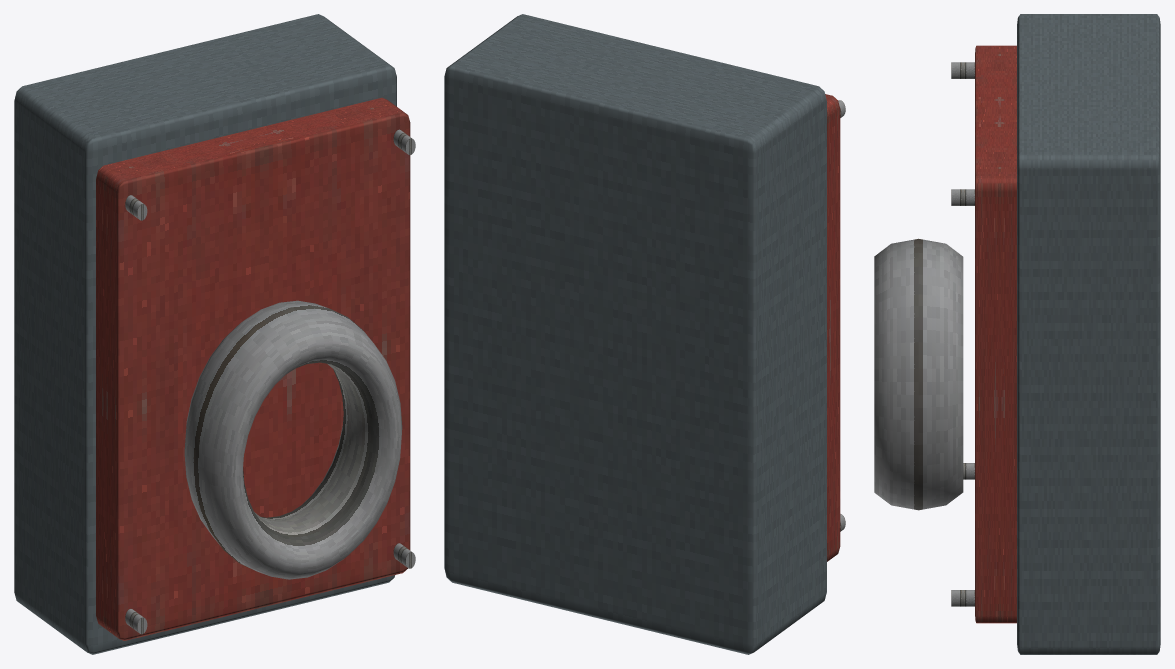
File: chain-seat.glb
3 views of the same model, side by side, from view 1: azimuth 30°, elevation 25°; view 2: azimuth 150°, elevation 25°; view 3: azimuth 270°, elevation 25° (orthographic). The views are drawn at different scales.
Parts seen in each view (by area): view 1: face, back, guide; view 2: back, face; view 3: back, face, guide.
Part boxes in pixels (x1,y1,x2,y2): face: (96, 97, 410, 640); back: (14, 14, 396, 654); guide: (184, 300, 402, 579); back: (444, 14, 826, 654); face: (825, 94, 840, 561); back: (1017, 14, 1160, 654); face: (975, 45, 1016, 623); guide: (874, 238, 963, 510).
Bounding box in the file's own units: 0.12 × 0.19 × 0.0985.
3 materials, 3 textured.
